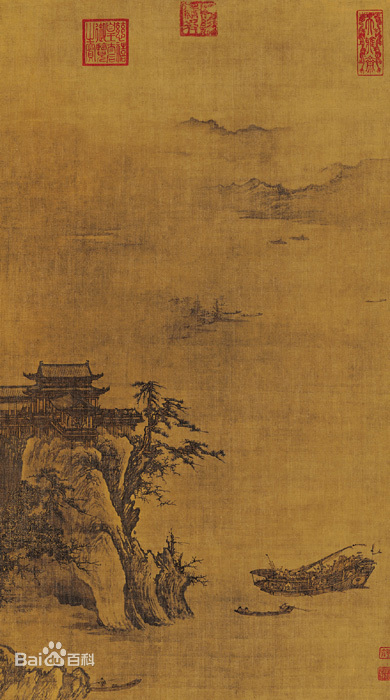boat: (248, 543, 378, 600), (228, 600, 304, 619), (83, 676, 150, 693), (268, 235, 291, 248), (289, 233, 311, 242)
house: (1, 353, 140, 438)
river: (182, 235, 379, 700)
tree: (114, 380, 228, 533), (2, 473, 83, 583)
